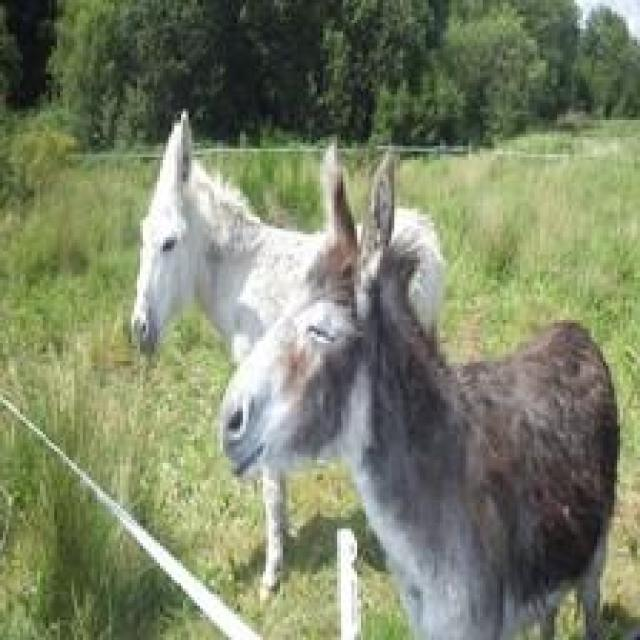Donkey: (217, 137, 620, 637), (128, 108, 446, 603)
